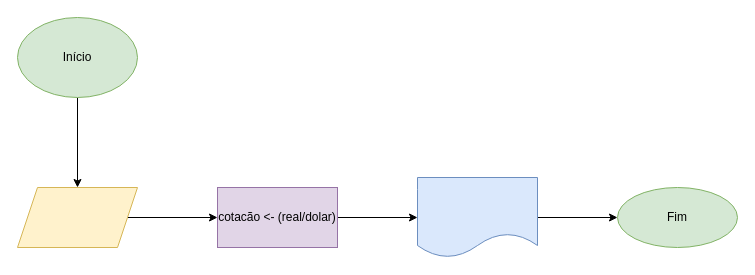
Some shapes in this 755 by 275 pixel diagram are drawn without their labels. The shapes that lost their labels are listed below. From the top down, each one's centre as x and y in pixels, then its label:
At (x=77, y=217): "dolar,real".
At (x=477, y=217): "cotação".
